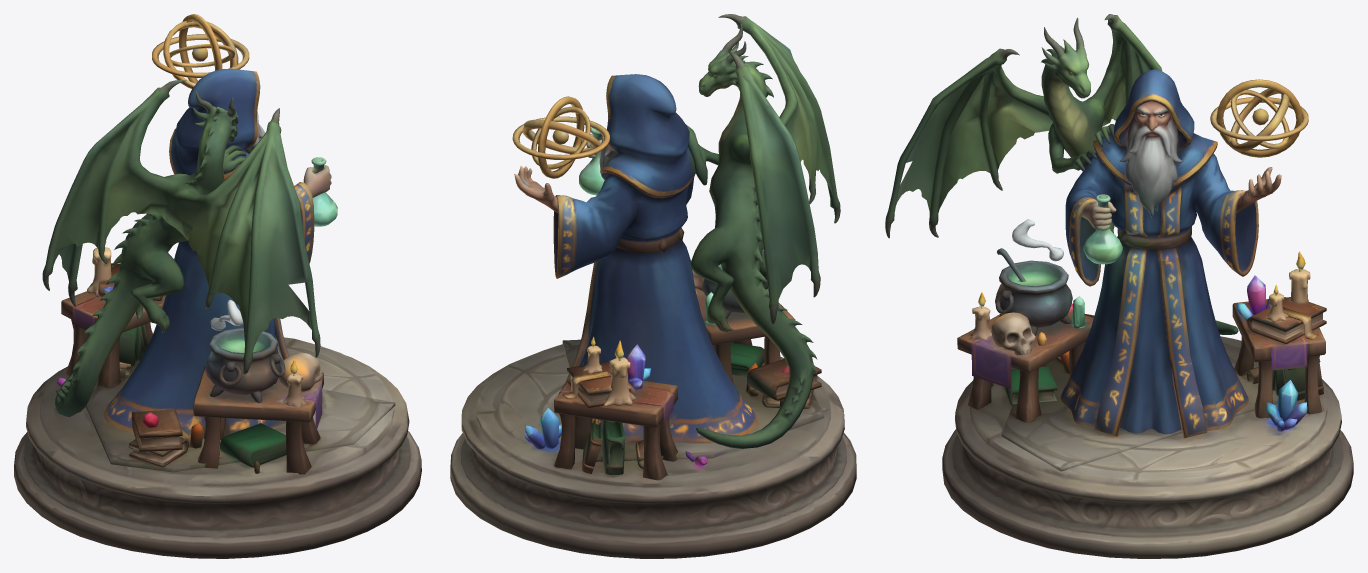
File: 21-alchemist.glb
The picture shows the model from 3 angles, left to right: view 1: azimuth 30°, elevation 25°; view 2: azimuth 150°, elevation 25°; view 3: azimuth 270°, elevation 25°; orthographic projection.
Parts seen in each view (by area): view 1: tripo_node_51d4818d-e06c-4276-b356-c68ff182f00e; view 2: tripo_node_51d4818d-e06c-4276-b356-c68ff182f00e; view 3: tripo_node_51d4818d-e06c-4276-b356-c68ff182f00e.
Boxes of the visible parts, x1,y1,x2,y2 form: tripo_node_51d4818d-e06c-4276-b356-c68ff182f00e: (14, 14, 421, 558); tripo_node_51d4818d-e06c-4276-b356-c68ff182f00e: (450, 14, 856, 558); tripo_node_51d4818d-e06c-4276-b356-c68ff182f00e: (885, 14, 1353, 558).
Size of the model in its own units: 0.8745 by 0.9995 by 0.9937.
Materials: 1 (1 with a texture image).
